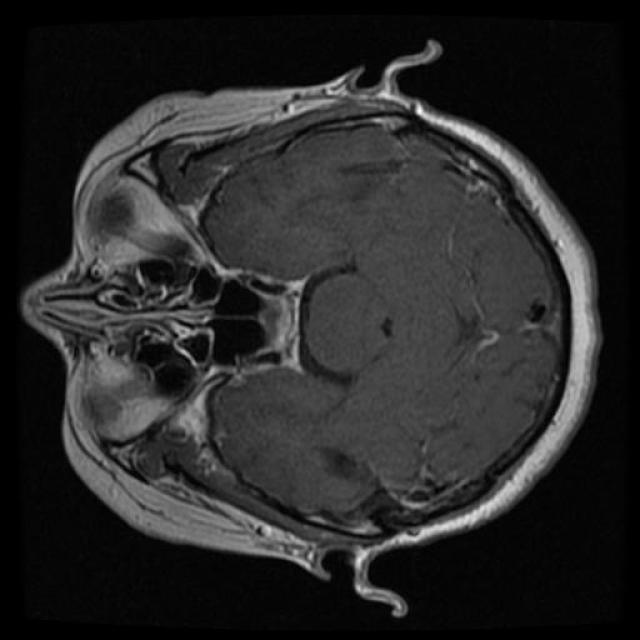Pituitary: (211, 273, 305, 373)
